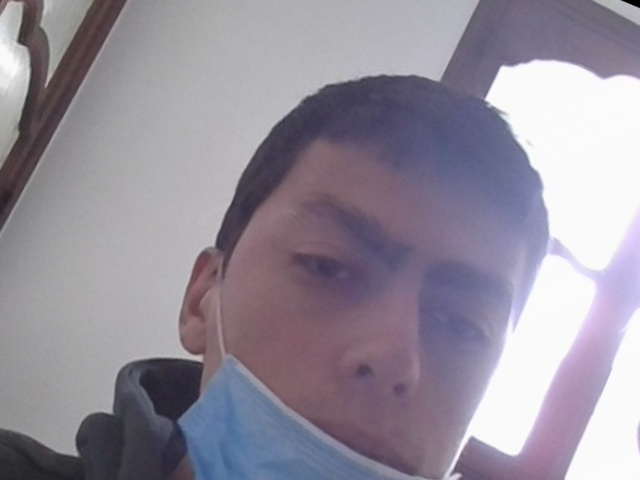mask_weared_incorrect: (200, 122, 526, 480)
